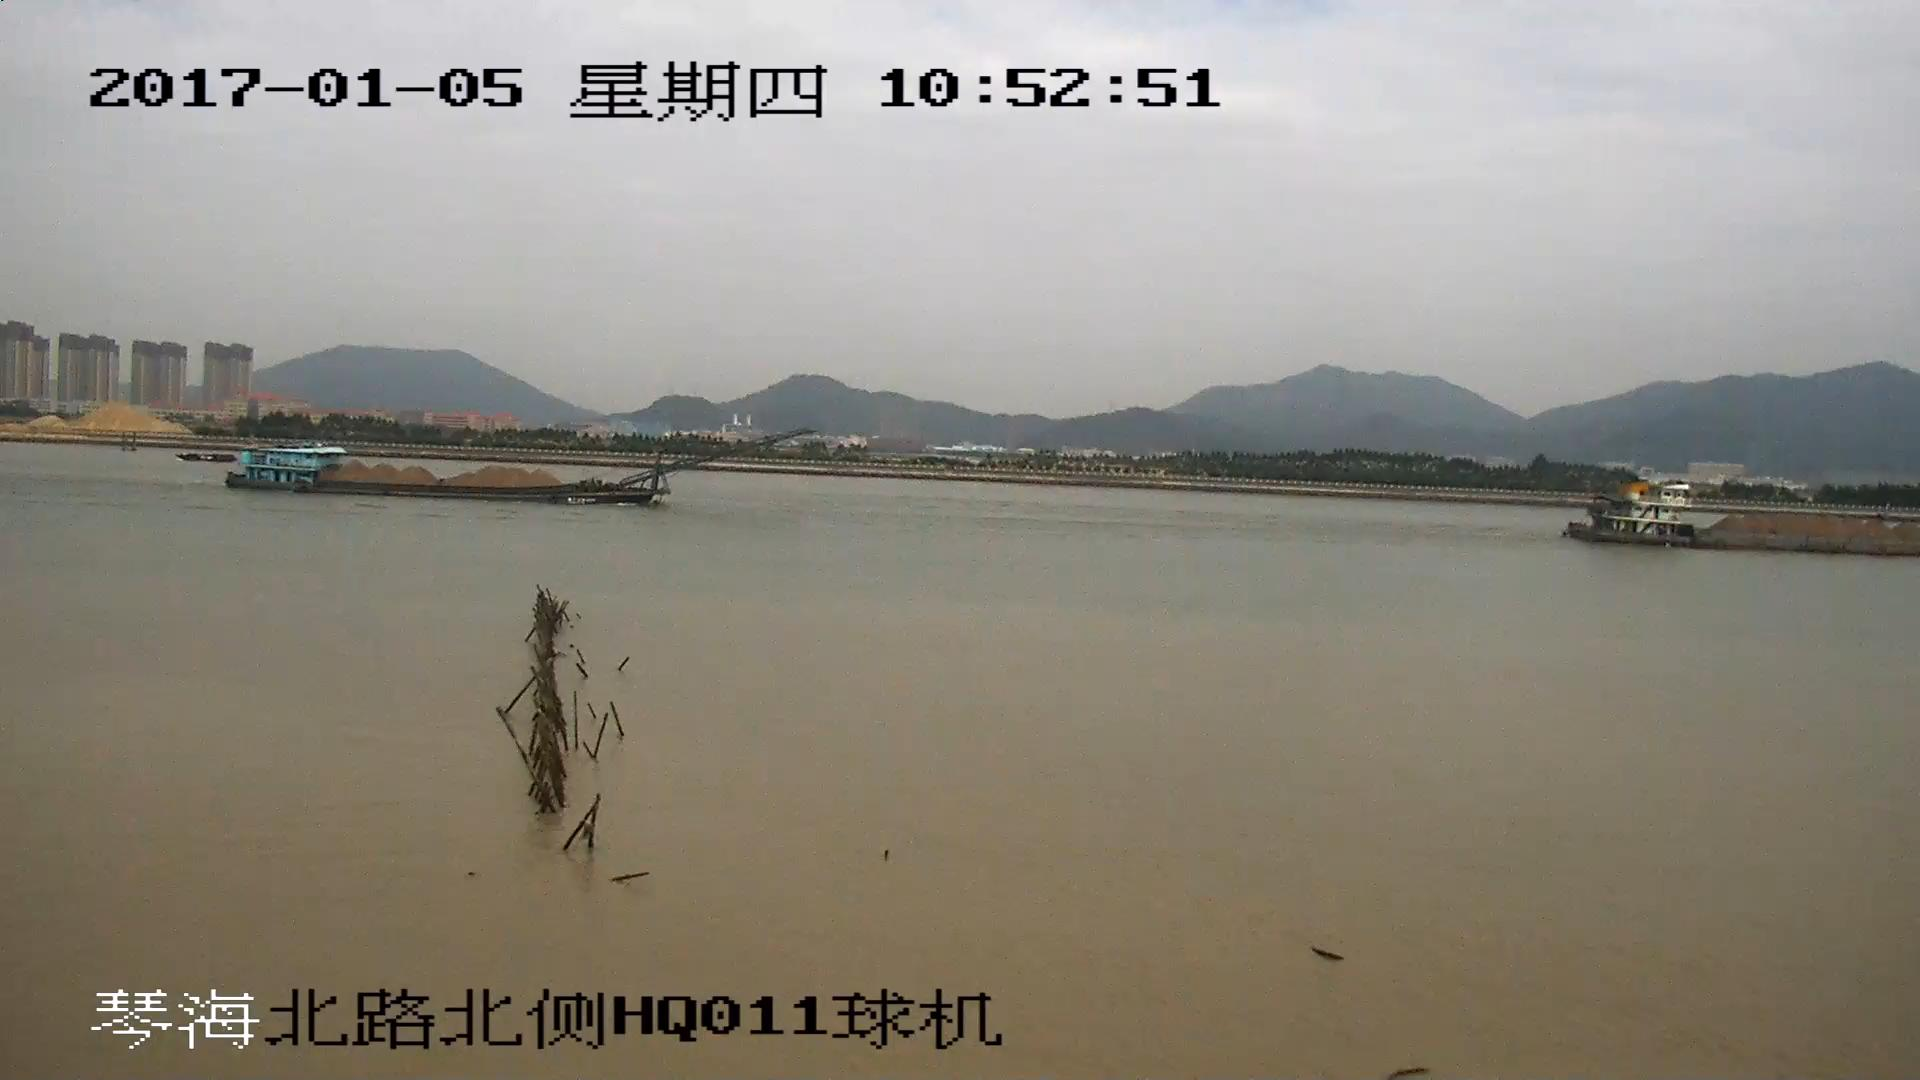ore carrier: (230, 428, 806, 508), (1566, 488, 1920, 561)
